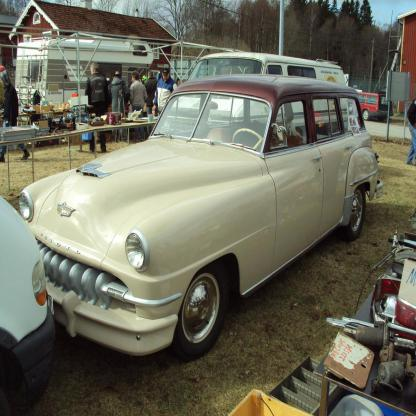Car: (20, 74, 384, 362), (0, 193, 53, 415), (354, 89, 394, 120)
